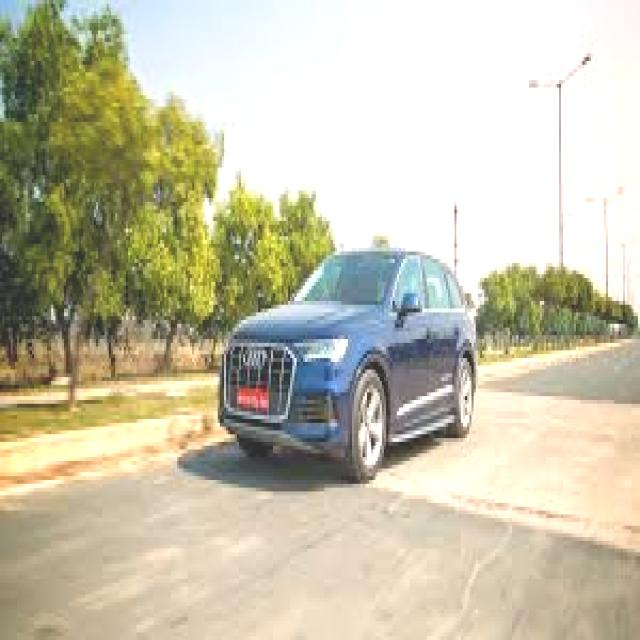SUV: (219, 242, 483, 483)
